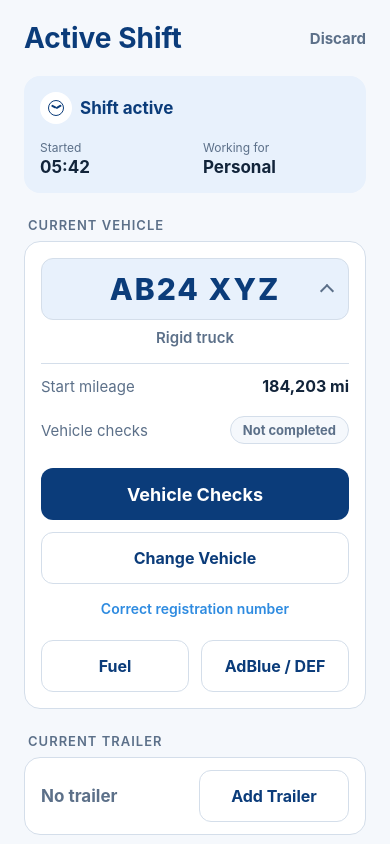
Test: pressing the plate panel FOLDS the card to its plate alone
Step 1. Click the button with test id "current-vehicle-toggle" → (195, 289), box top-left (41, 258), bottom-right (349, 320)
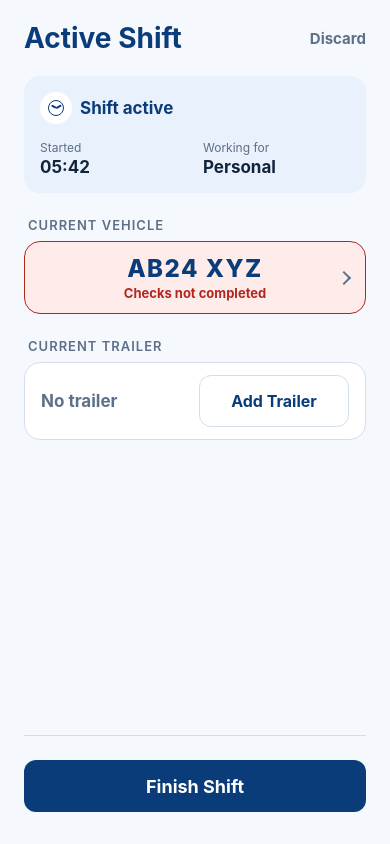
Now the text with test id "vehicle-class-value" is gone
Now the text with test id "vehicle-mileage-value" is gone
Now the text with test id "vehicle-checks-state" is gone
